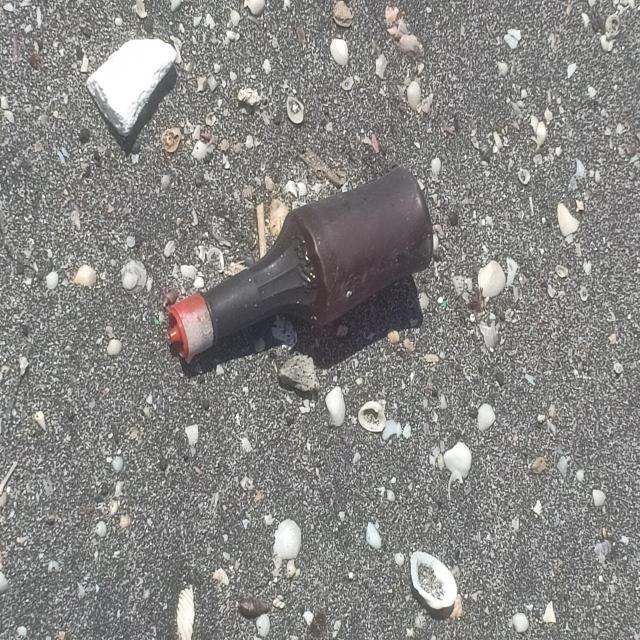plastic_waste: (168, 168, 435, 366)
styrofoam_waste: (84, 39, 178, 140)
